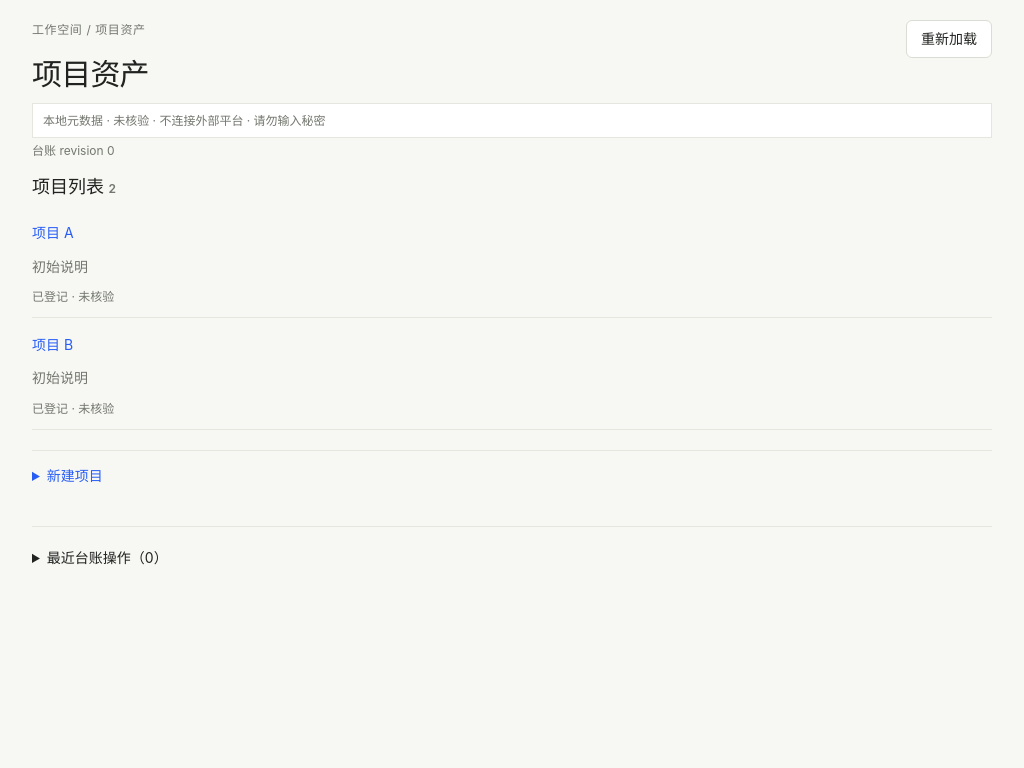
it: points an empty resource list to the resource registration disclosure
What coordinates should you click on to do the following:
click the button "项目 A"
I would click on:
 (53, 233)
Its box is [32,217,74,249].
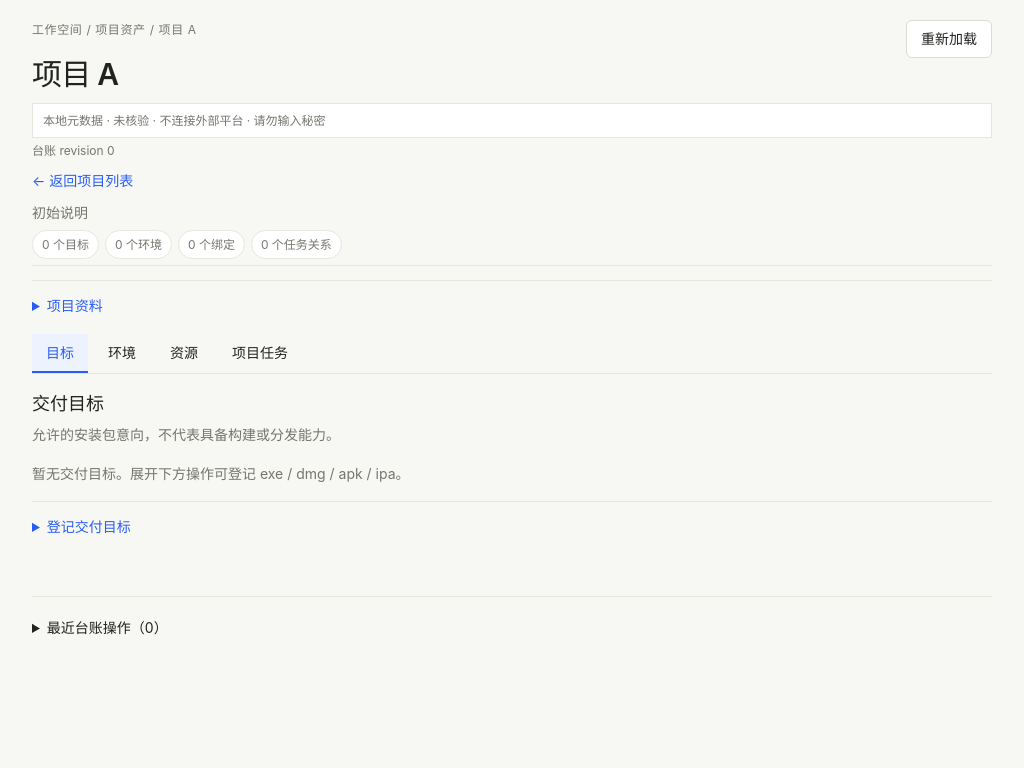
What coordinates should you click on to do the following:
click the button "资源"
I would click on:
 (184, 353)
Its box is [156,334,212,373].
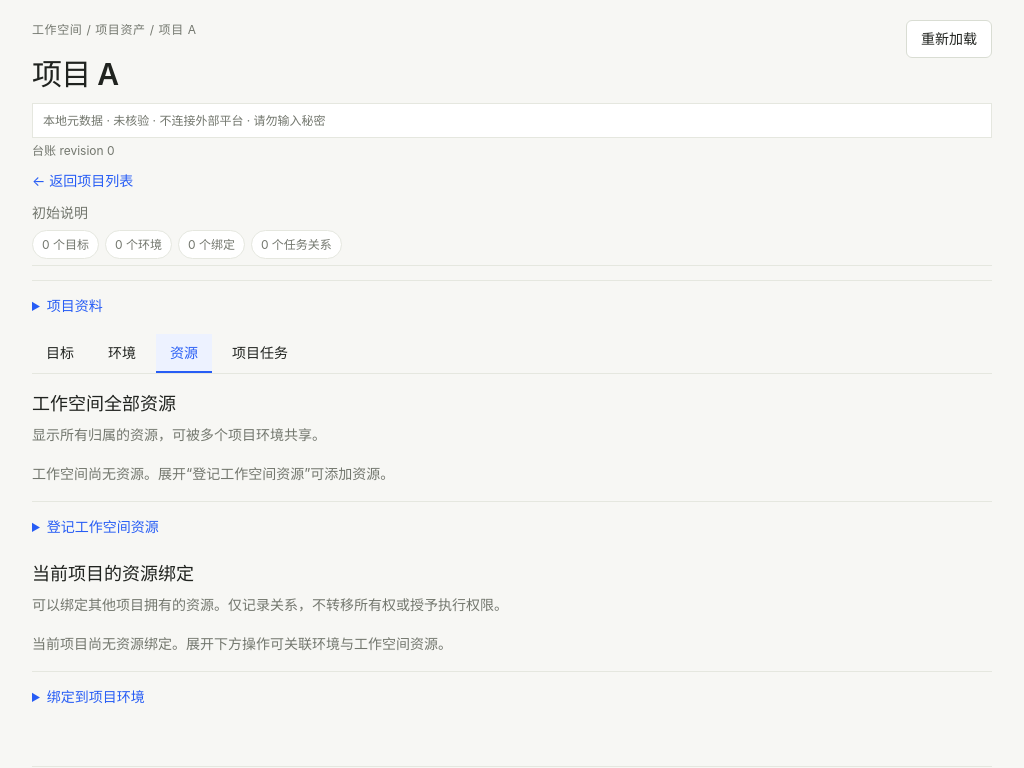
Result: the text "工作空间尚无资源。展开“登记工作空间资源”可添加资源。" is shown at [32,464,394,482]
Result: the heading "登记工作空间资源" is shown at [47,518,159,535]
